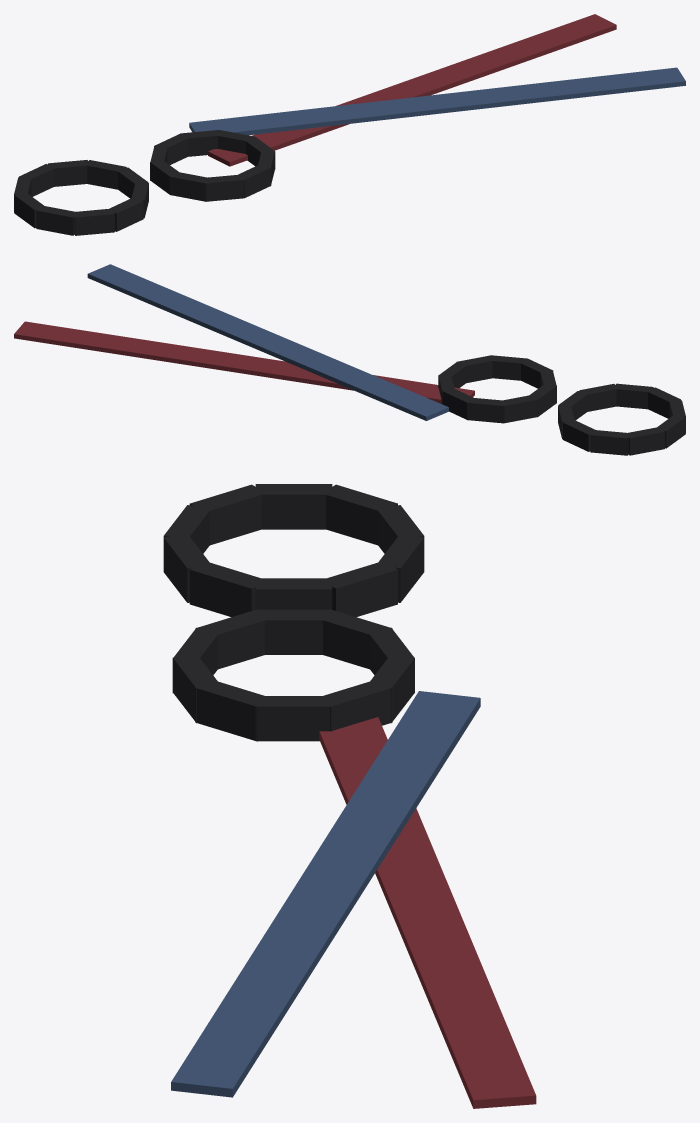
The model's file is iron_bracelets.glb.
The picture shows the model from 3 angles, top to bottom: view 1: azimuth 30°, elevation 25°; view 2: azimuth 150°, elevation 25°; view 3: azimuth 270°, elevation 25°; orthographic projection. The views are drawn at different scales.
Parts seen in each view (by area): view 1: iron_bracelets; view 2: iron_bracelets; view 3: iron_bracelets.
Boxes of the visible parts, bbox=[...] form: iron_bracelets: bbox=[14, 14, 685, 235]; iron_bracelets: bbox=[14, 264, 685, 455]; iron_bracelets: bbox=[163, 484, 536, 1108].
Size of the model in its own units: 0.4385 by 0.012 by 0.1167.
